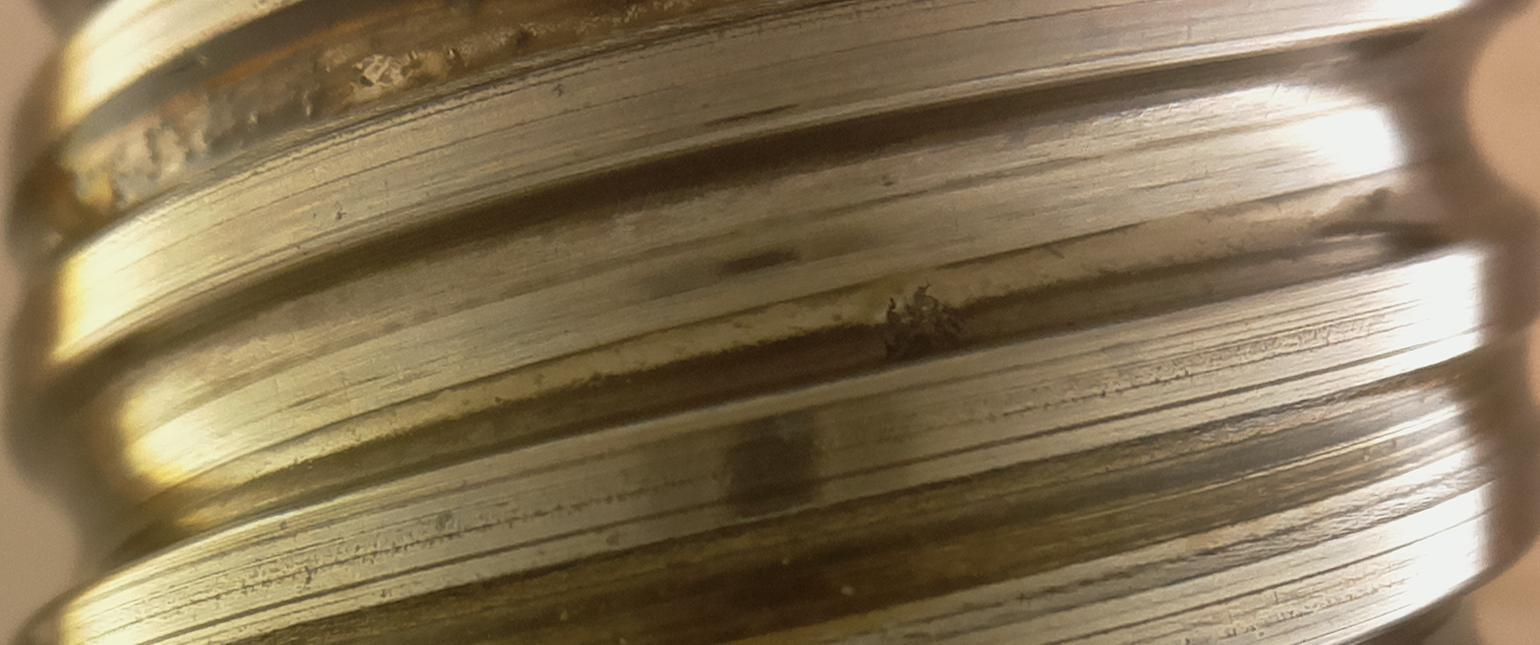pitting: (876, 284, 976, 361)
